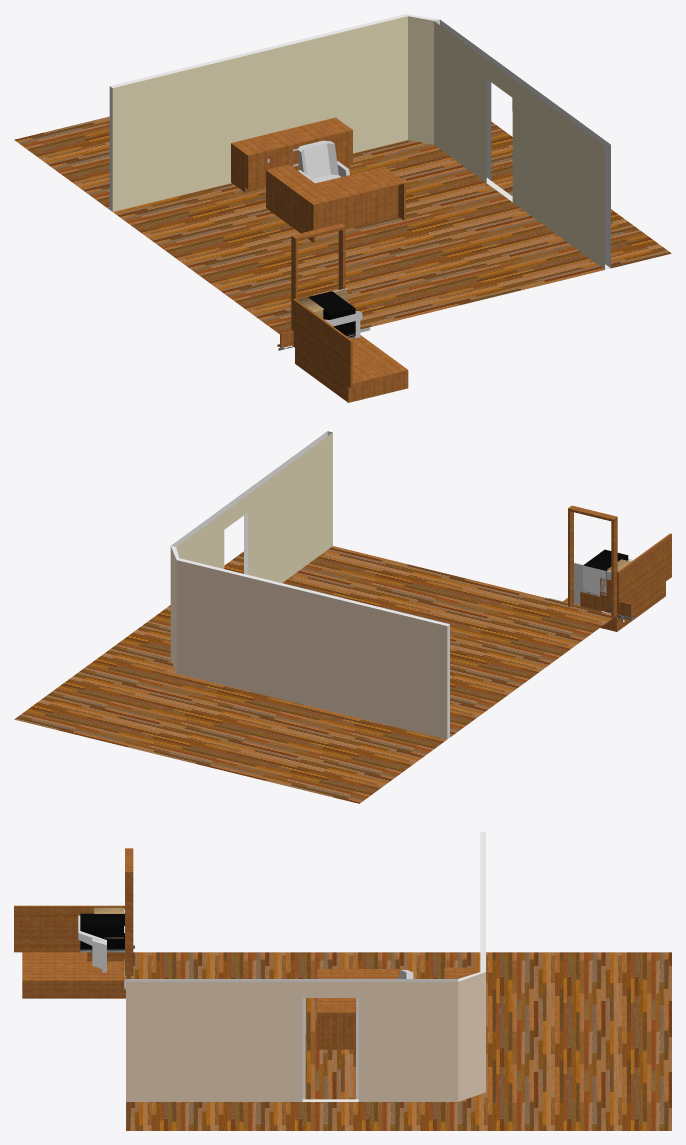
File: office i.glb
The picture shows the model from 3 angles, top to bottom: view 1: azimuth 30°, elevation 25°; view 2: azimuth 150°, elevation 25°; view 3: azimuth 270°, elevation 25°; orthographic projection. The views are drawn at different scales.
Visible parts, largest first — view 1: ID930, SketchUp, ID1013, ID406, FlushDoor36, ID981, ID938, ID924, ID973, Door3-0x6-8RHRev, ID952, ID446; view 2: SketchUp, ID938, ID930, FlushDoor36, Door3-0x6-8RHRev, ID924, ID406, group_1; view 3: SketchUp, ID938, ID406, FlushDoor36, ID1013, ID930, ID446, Door3-0x6-8RHRev, ID924, Executive_Chair01.
Boxes of the visible parts, x1,y1,x2,y2 form: ID930: [112, 16, 604, 269]; SketchUp: [14, 116, 671, 334]; ID1013: [266, 164, 405, 242]; ID406: [295, 335, 408, 402]; FlushDoor36: [293, 298, 352, 388]; ID981: [231, 117, 352, 192]; ID938: [440, 19, 610, 267]; ID924: [109, 14, 610, 269]; ID973: [250, 132, 351, 187]; Door3-0x6-8RHRev: [291, 223, 345, 330]; ID952: [297, 140, 338, 178]; ID446: [308, 291, 355, 335]; SketchUp: [14, 546, 613, 803]; ID938: [170, 431, 447, 739]; ID930: [176, 432, 332, 582]; FlushDoor36: [617, 533, 671, 614]; Door3-0x6-8RHRev: [568, 505, 617, 617]; ID924: [171, 431, 449, 739]; ID406: [562, 582, 665, 631]; group_1: [583, 565, 606, 595]; SketchUp: [126, 952, 671, 1130]; ID938: [126, 972, 485, 1101]; ID406: [22, 952, 125, 998]; FlushDoor36: [14, 905, 124, 952]; ID1013: [317, 969, 409, 1049]; ID930: [126, 979, 458, 1099]; ID446: [80, 913, 124, 949]; Door3-0x6-8RHRev: [125, 848, 133, 975]; ID924: [302, 832, 485, 1101]; Executive_Chair01: [78, 915, 106, 972].
Bounding box in the file's own units: 8 × 2.76 × 11.93.
154 materials, 49 textured.
